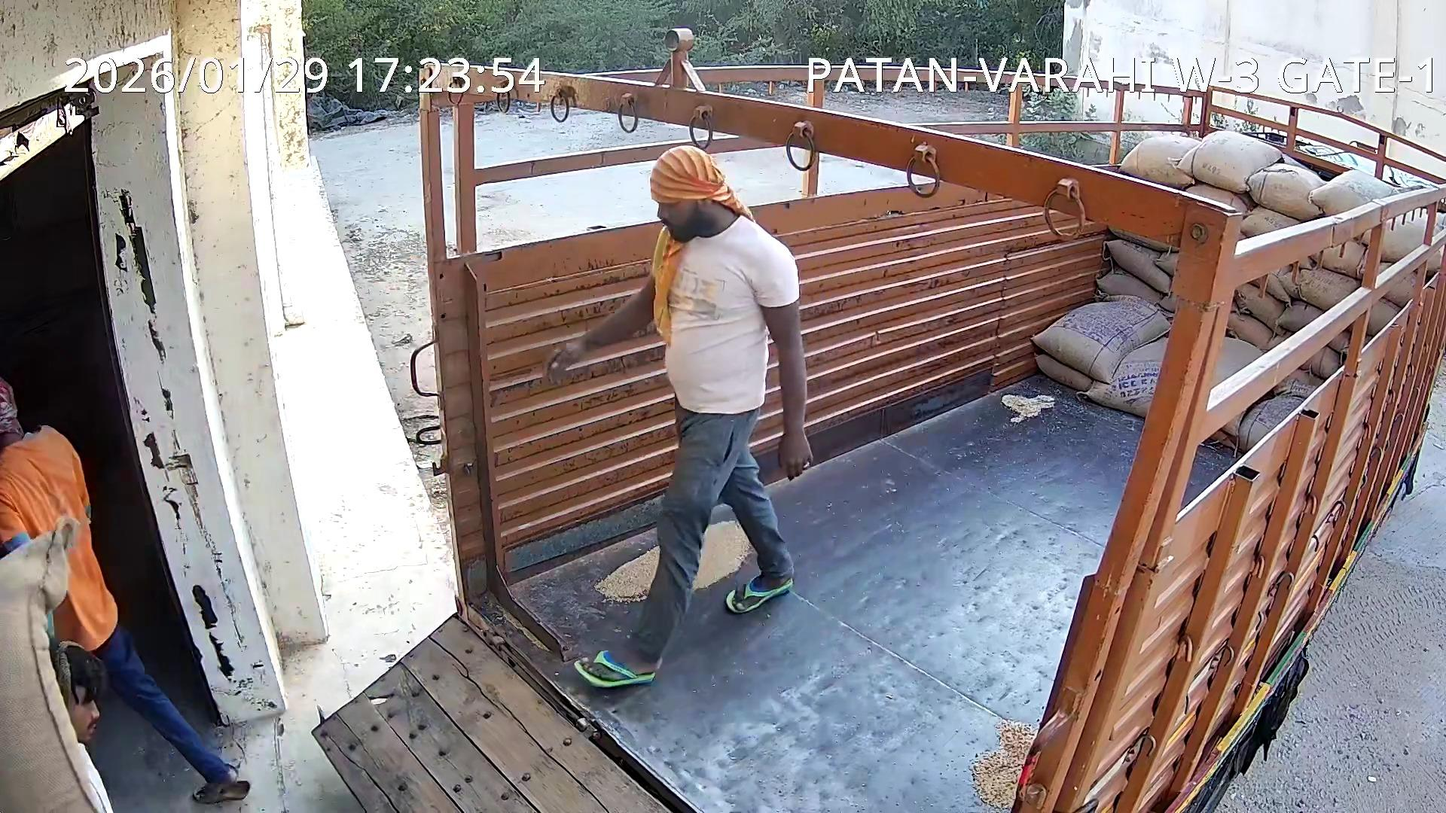Sack: (0, 518, 100, 812)
